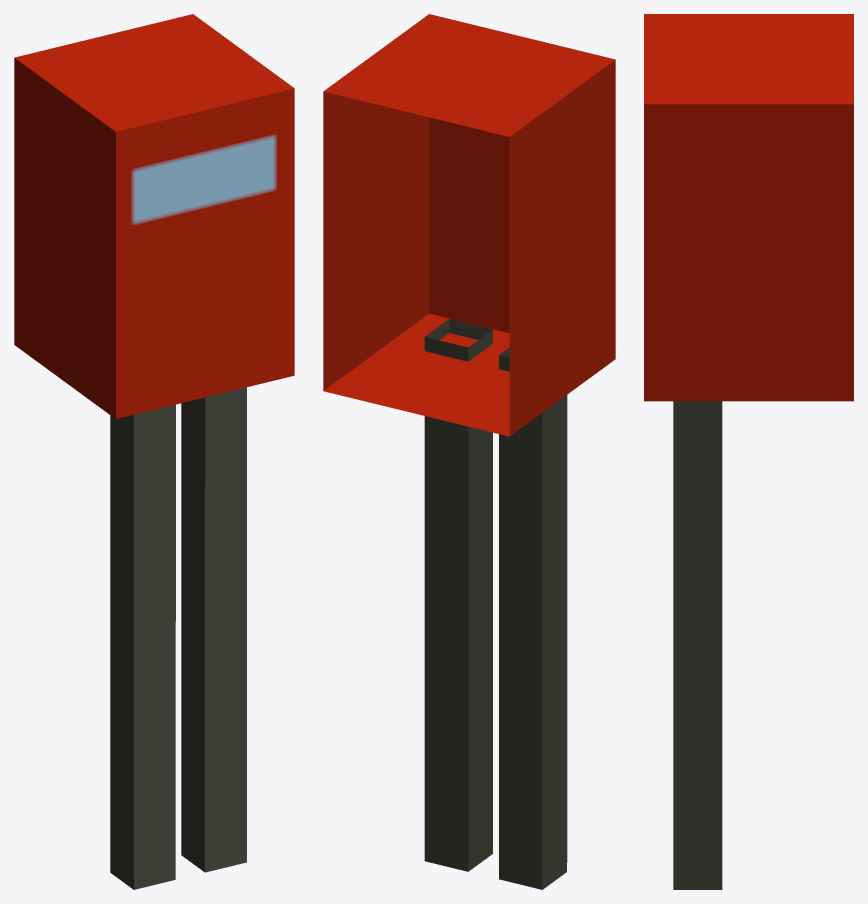
Rendered from SM_PowerBox_05.fbx.
3 renders of one model, left to right at view 1: azimuth 30°, elevation 25°; view 2: azimuth 150°, elevation 25°; view 3: azimuth 270°, elevation 25°, orthographic. The views are drawn at different scales.
Visible parts, largest first — view 1: SM_PowerBox_05; view 2: SM_PowerBox_05; view 3: SM_PowerBox_05.
Part boxes in pixels (<box>): SM_PowerBox_05: <box>14,14,294,889</box>; SM_PowerBox_05: <box>323,14,615,889</box>; SM_PowerBox_05: <box>644,14,853,889</box>.
Bounding box in the file's own units: 0.3573 × 1.48 × 0.3515.
